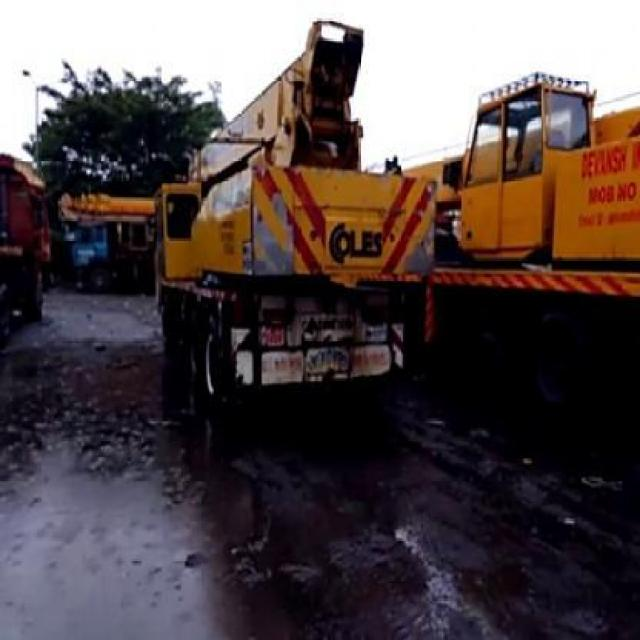Mobile Crane: (156, 18, 433, 402)
